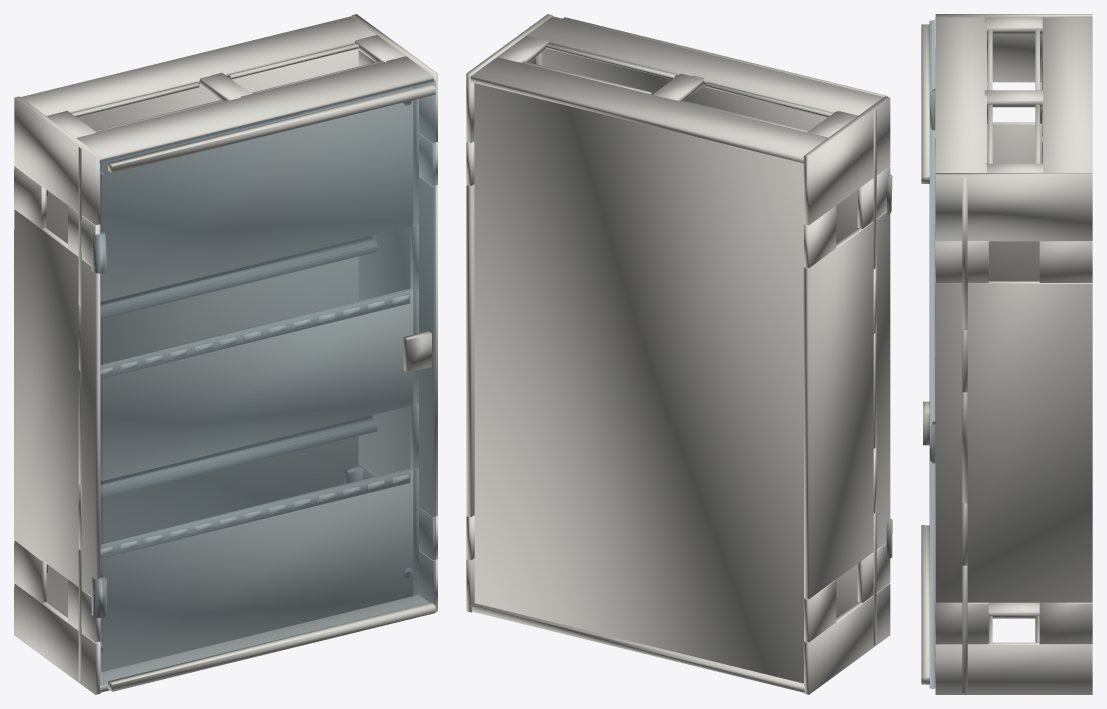
Rendered from gammaboard_default.low.glb.
3 renders of one model, left to right at view 1: azimuth 30°, elevation 25°; view 2: azimuth 150°, elevation 25°; view 3: azimuth 270°, elevation 25°, orthographic. The views are drawn at different scales.
Parts seen in each view (by area): view 1: node-168, node-2 · Original material, node-107 · Original material, node-44 · Original material.001, node-167 · Original material, node-107 · Original material.004, node-107 · Original material.005, node-2 · Original material.002, node-167 · Original material.001, node-175; view 2: node-2 · Original material, node-107 · Original material, node-2 · Original material.002, node-167 · Original material; view 3: node-2 · Original material, node-168, node-107 · Original material, node-167 · Original material, node-2 · Original material.002, node-167 · Original material.001, node-175.
Part boxes in pixels (x1,y1,x2,y2): node-168: [100, 79, 435, 691]; node-2 · Original material: [14, 14, 437, 694]; node-107 · Original material: [78, 86, 418, 682]; node-44 · Original material.001: [100, 236, 377, 498]; node-167 · Original material: [107, 84, 435, 691]; node-107 · Original material.004: [100, 290, 410, 558]; node-107 · Original material.005: [100, 294, 408, 555]; node-2 · Original material.002: [71, 43, 381, 131]; node-167 · Original material.001: [91, 230, 106, 617]; node-175: [403, 331, 431, 372]; node-2 · Original material: [466, 14, 890, 694]; node-107 · Original material: [536, 49, 876, 645]; node-2 · Original material.002: [521, 43, 833, 132]; node-167 · Original material: [563, 17, 887, 96]; node-2 · Original material: [935, 14, 1092, 694]; node-168: [929, 20, 935, 688]; node-107 · Original material: [962, 177, 967, 693]; node-167 · Original material: [921, 24, 929, 684]; node-2 · Original material.002: [988, 29, 1039, 642]; node-167 · Original material.001: [930, 89, 935, 463]; node-175: [923, 401, 929, 445].
Bounding box in the file's own units: 5.02 × 7.49 × 2.24.
